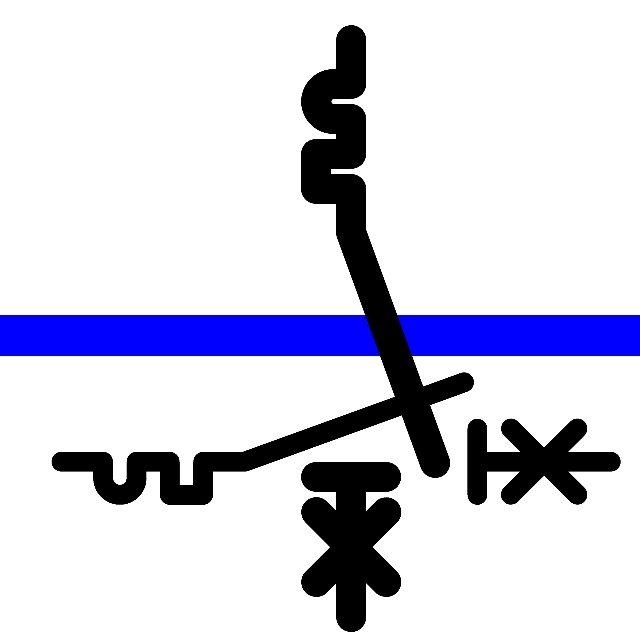interruptor_termomagnetico: (301, 25, 449, 632), (47, 368, 625, 509)
